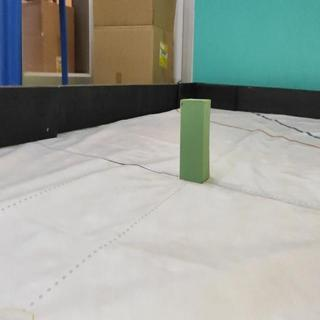greenbox: (179, 97, 211, 184)
